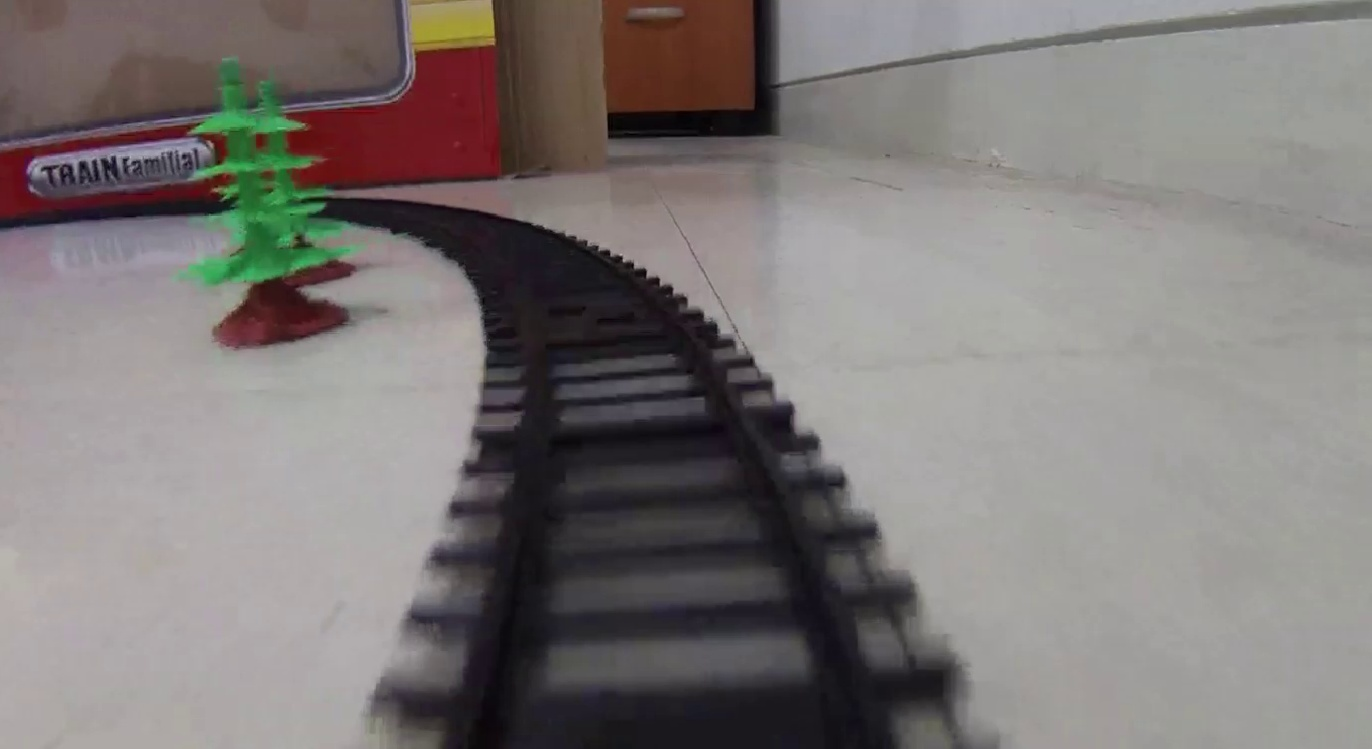tree: (180, 57, 344, 344)
